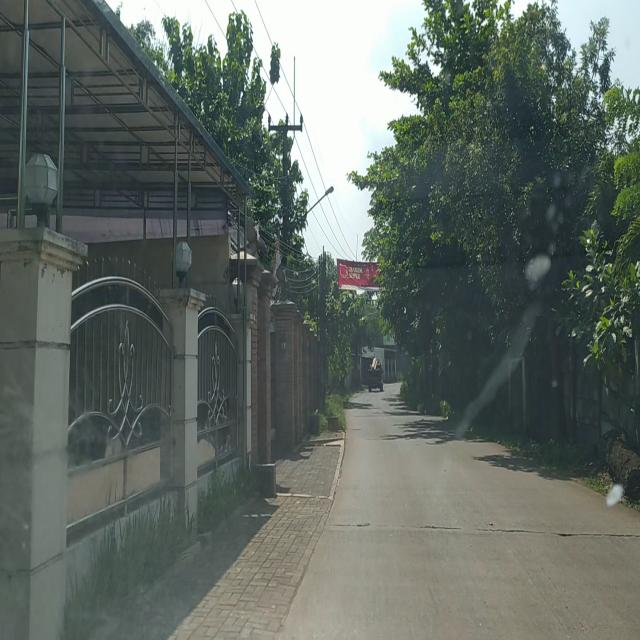Sewer Cover: (333, 521, 638, 543)
